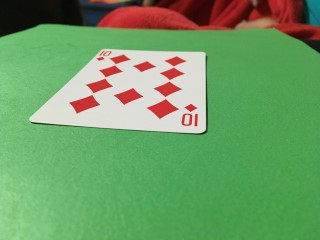TenOfDiamonds: (29, 48, 207, 134)
